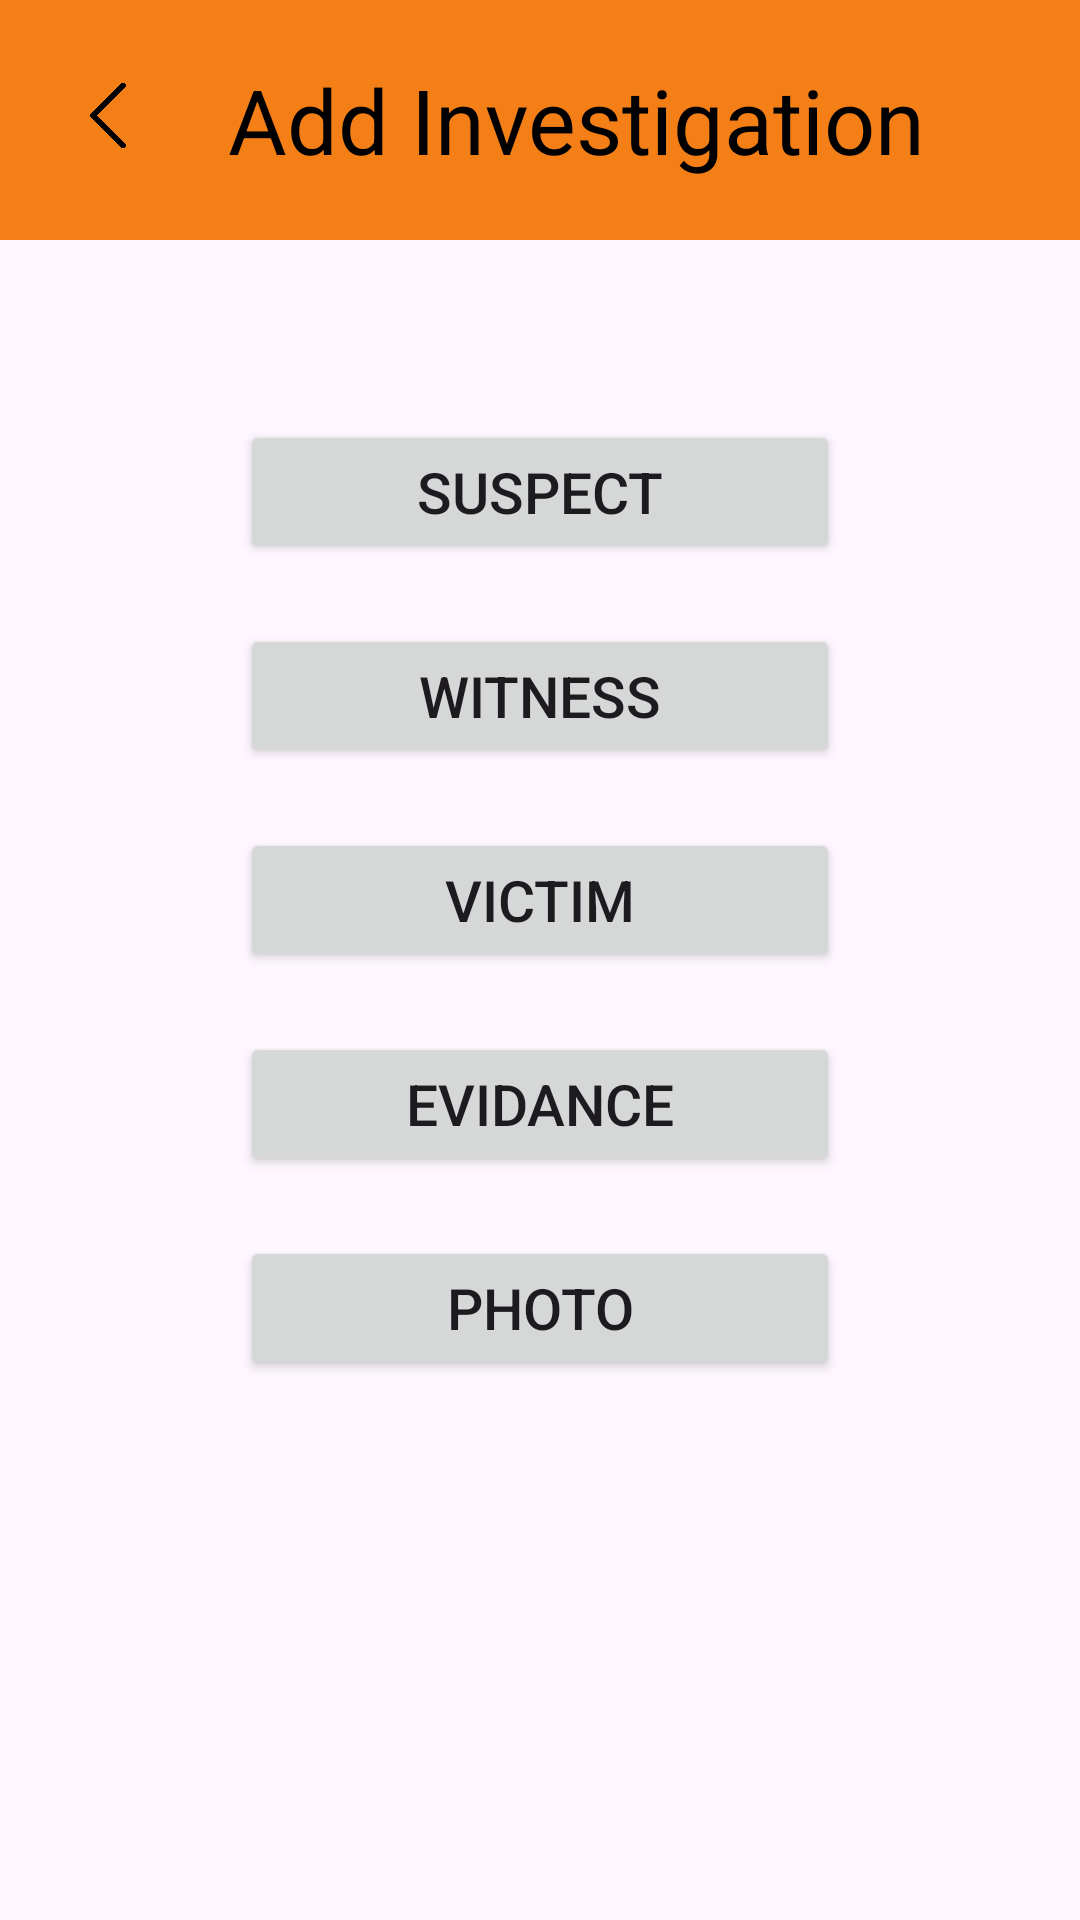

Screen size 1080*1920. Icon name, then its center in pixels as (x=x, y=y):
back: (x=108, y=115)
